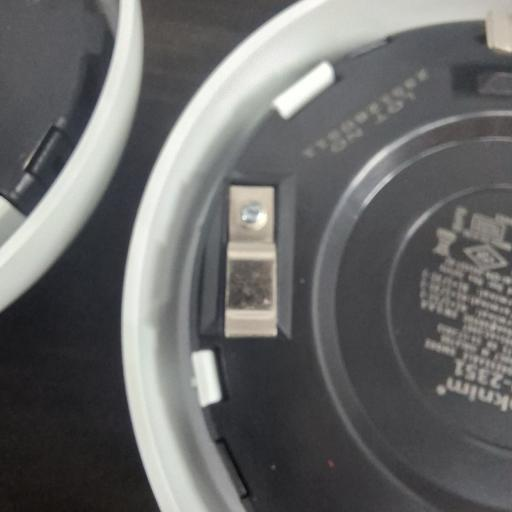yaysiz: (222, 180, 280, 342)
